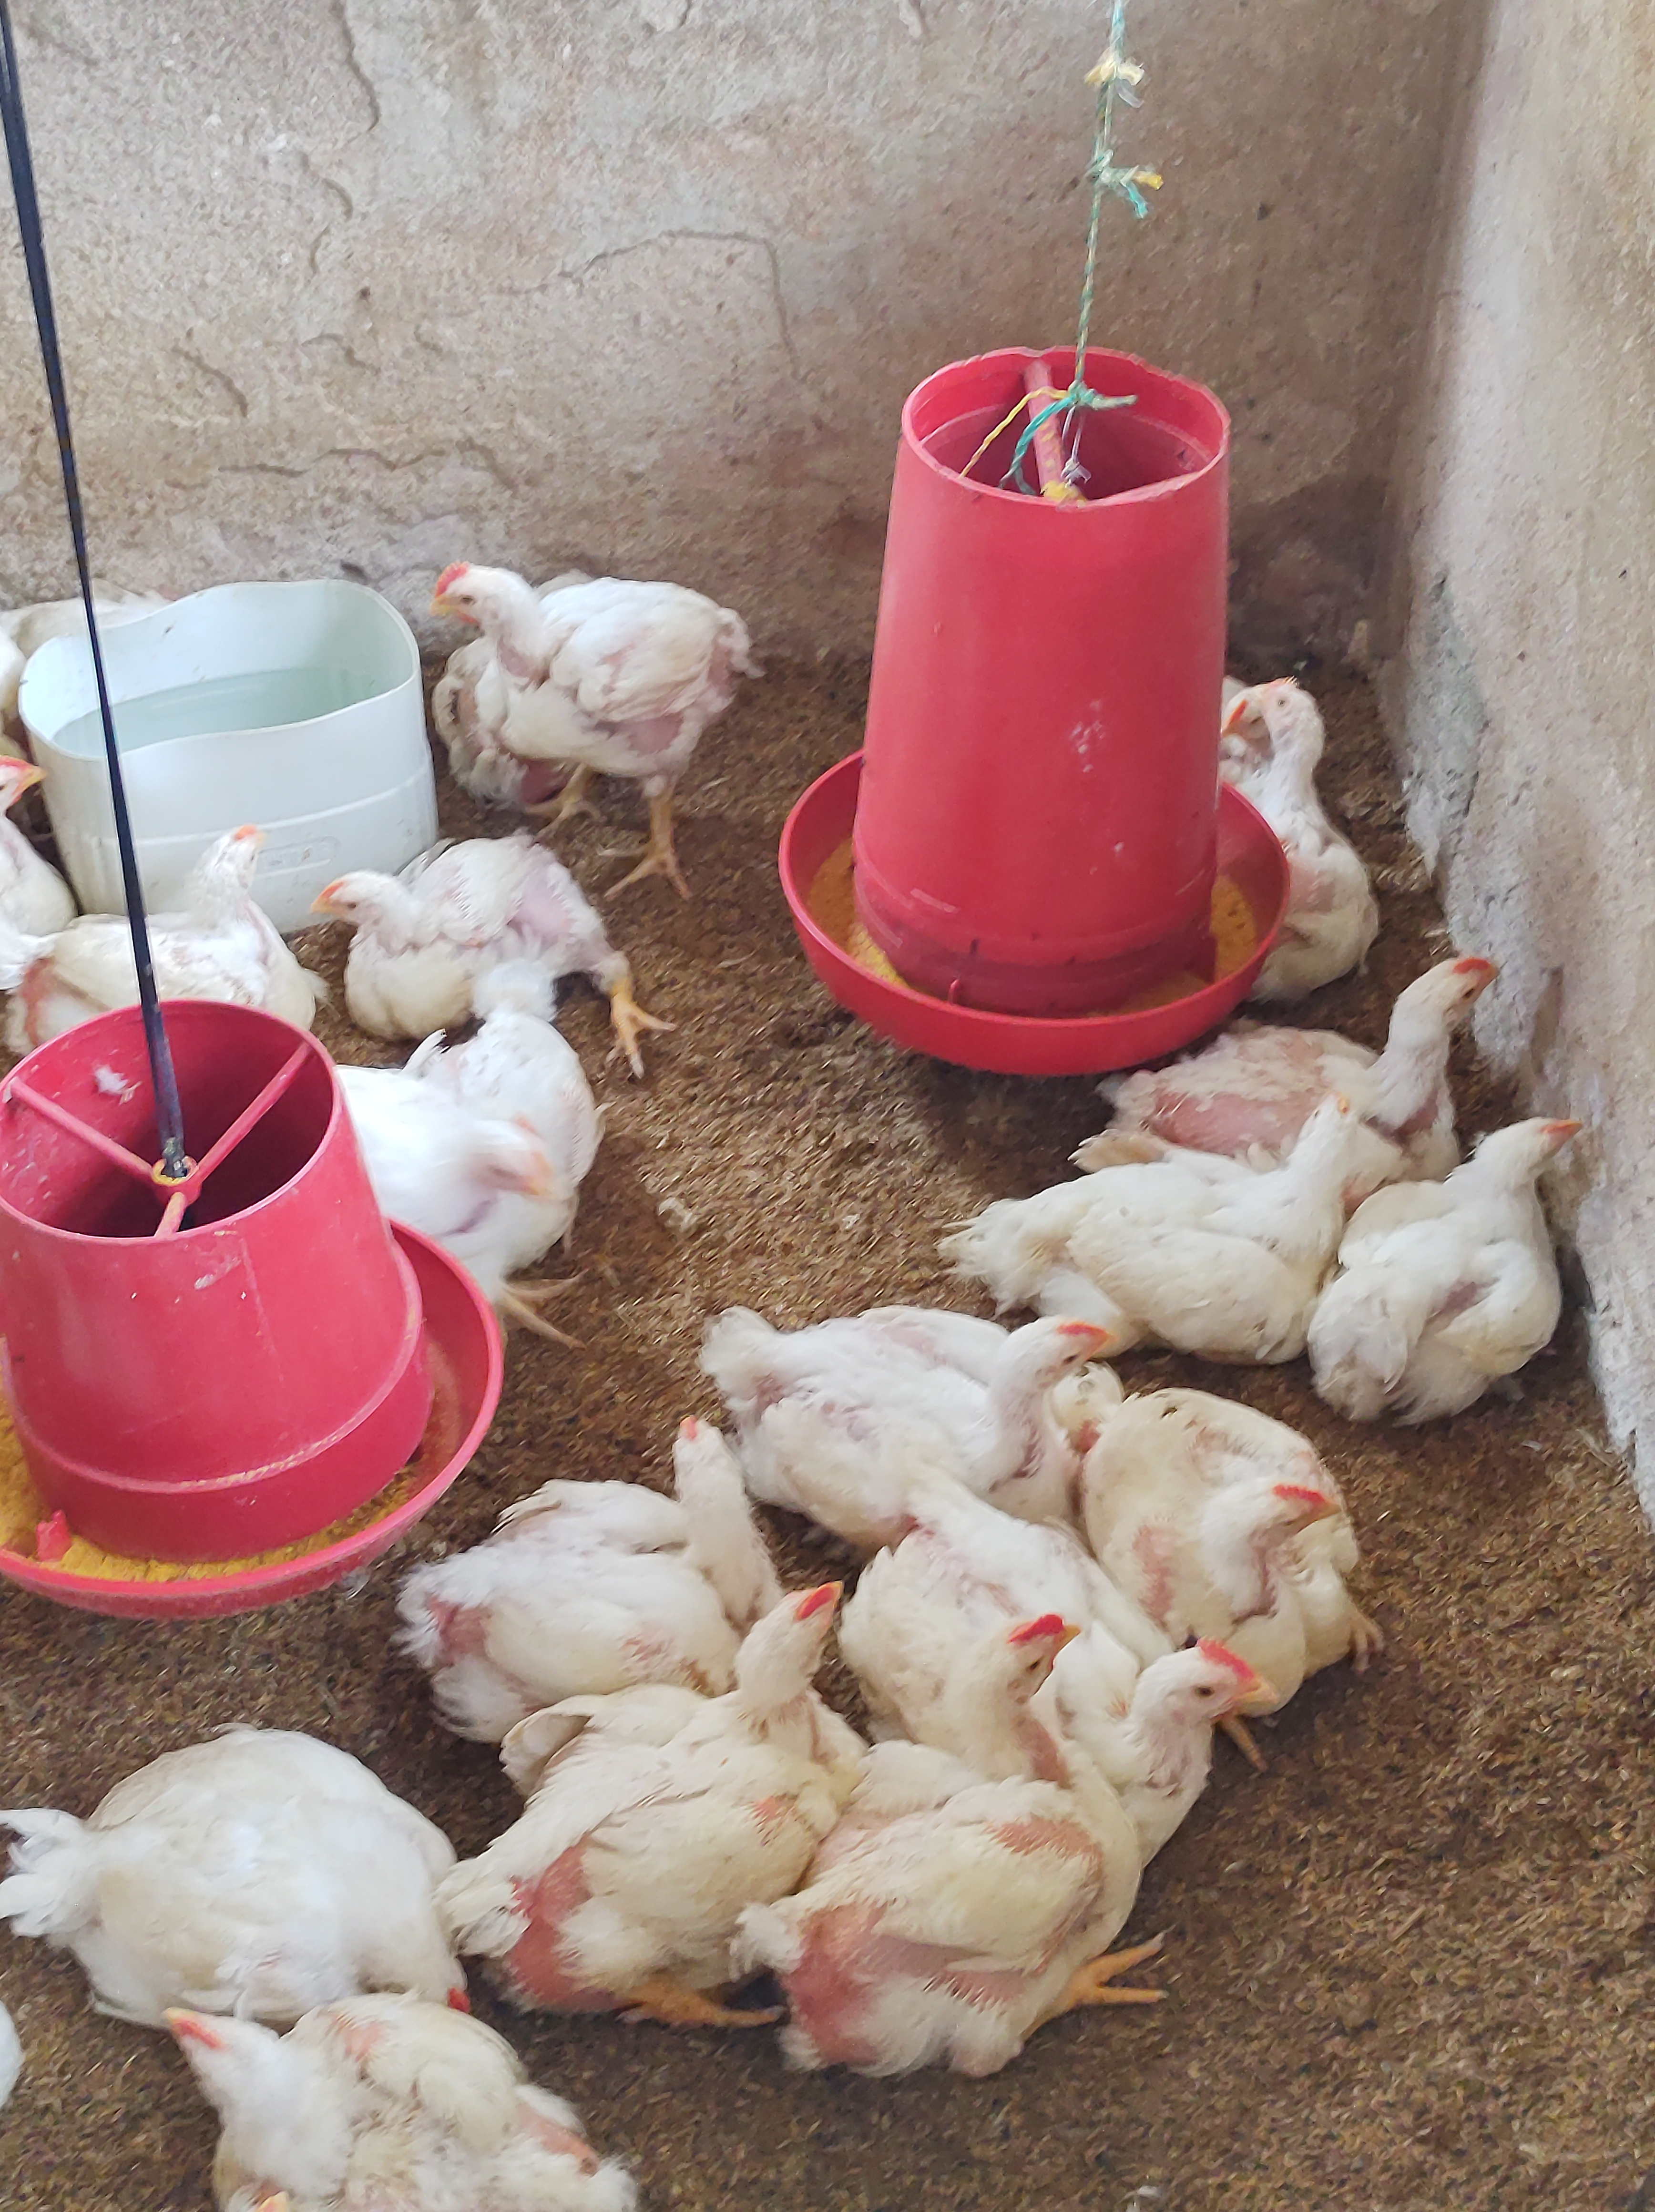Pollos: (3, 1732, 475, 2038), (424, 520, 779, 843), (158, 1998, 598, 2212), (414, 1414, 742, 1645), (711, 1285, 1120, 1464), (313, 1059, 553, 1355), (1387, 1106, 1618, 1402), (1043, 1089, 1361, 1297), (304, 835, 638, 1000), (101, 781, 294, 1033), (699, 1563, 855, 1819), (895, 1602, 1080, 1809), (1344, 941, 1533, 1089), (1193, 1478, 1380, 1617), (1121, 1626, 1267, 1779), (0, 737, 66, 995), (1260, 678, 1358, 810), (1212, 645, 1297, 758)
